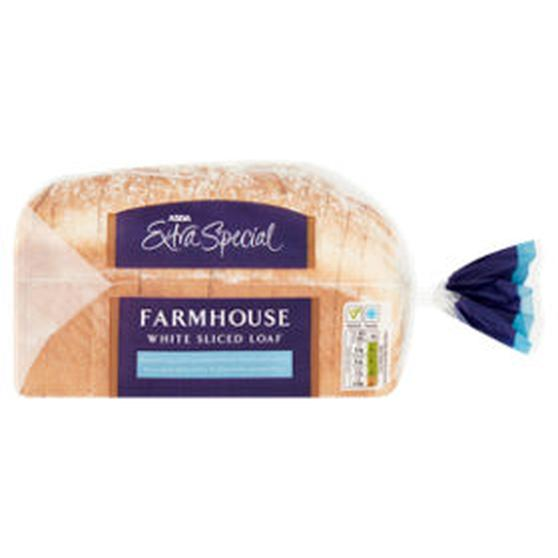white_bread: (14, 175, 409, 399)
